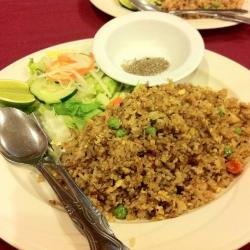rice: (68, 82, 246, 211)
salad: (13, 52, 121, 114)
